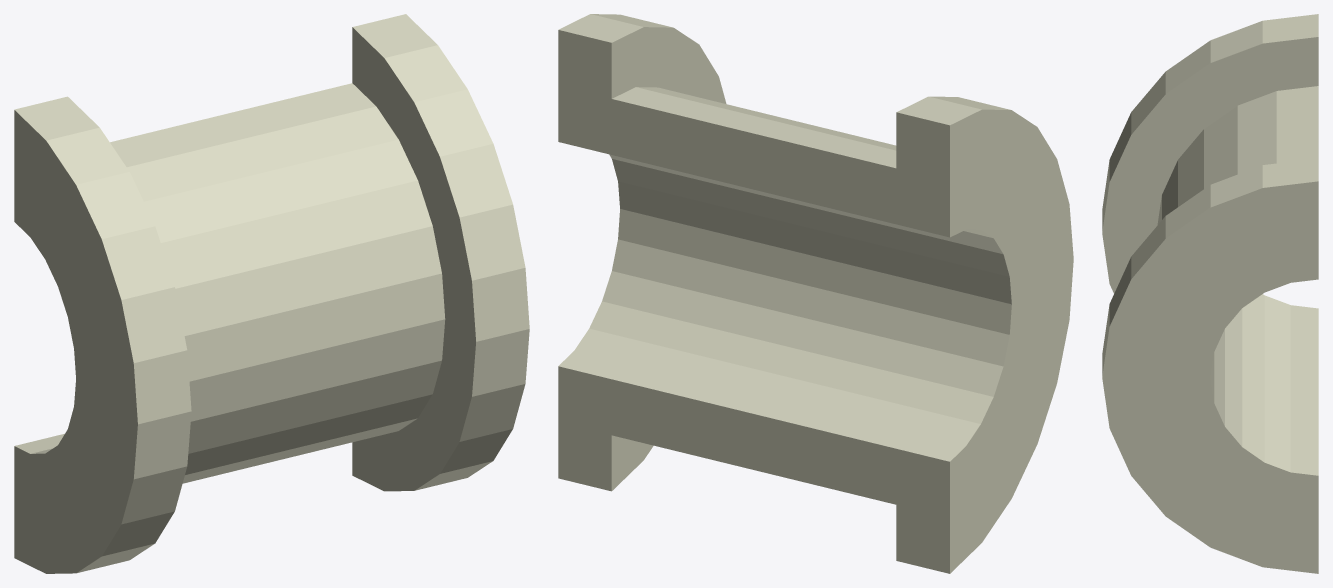
The model's file is section_141.obj.
The picture shows the model from 3 angles, left to right: view 1: azimuth 30°, elevation 25°; view 2: azimuth 150°, elevation 25°; view 3: azimuth 270°, elevation 25°; orthographic projection. The views are drawn at different scales.
Bounding box in the file's own units: 7.31 × 8 × 4.
